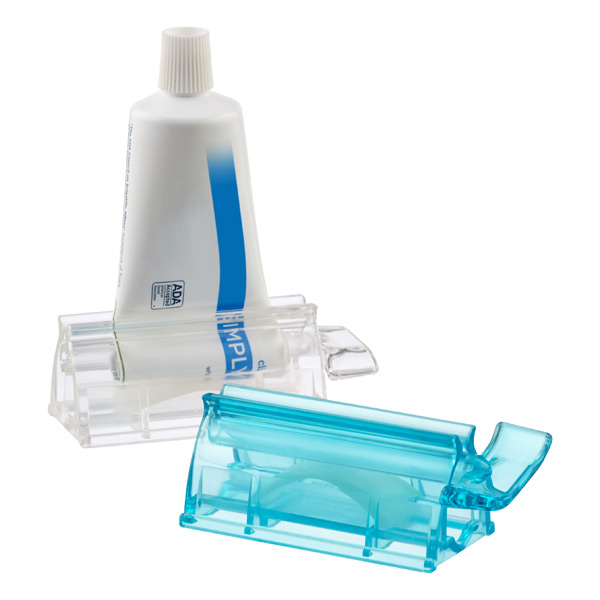Nonrec_Plastic: (54, 9, 399, 394), (126, 376, 576, 575)
